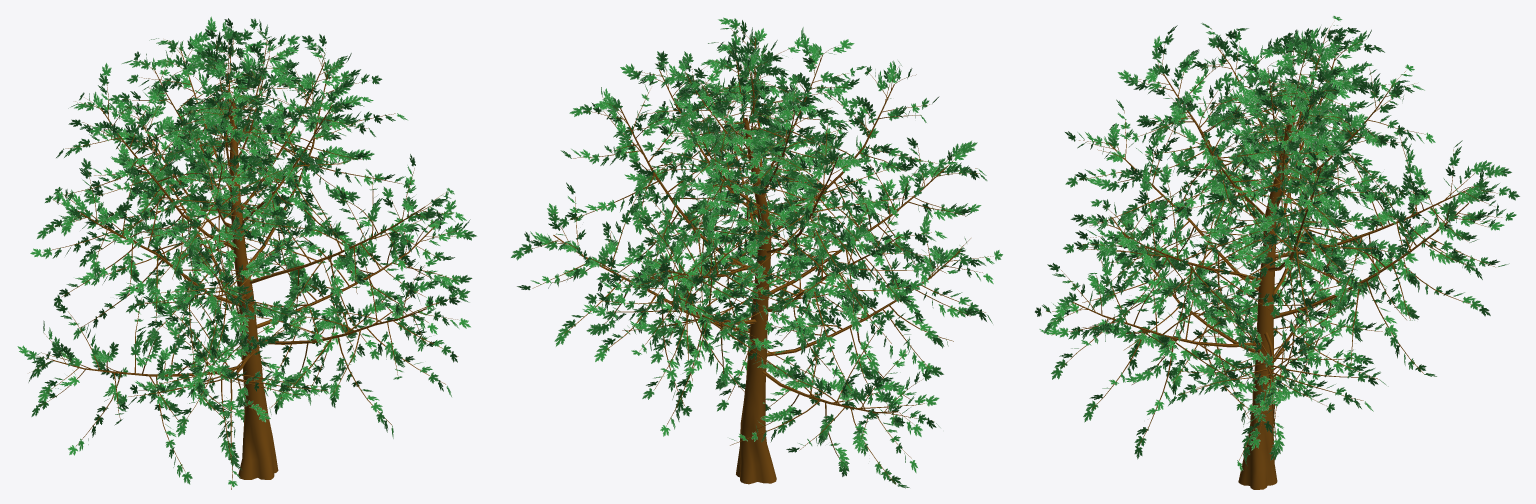
The model's file is copac.obj.
3 views of the same model, side by side, from view 1: azimuth 30°, elevation 25°; view 2: azimuth 150°, elevation 25°; view 3: azimuth 270°, elevation 25° (orthographic). The views are drawn at different scales.
Bounding box in the file's own units: 457 × 451 × 442.
4 materials, 4 textured.
